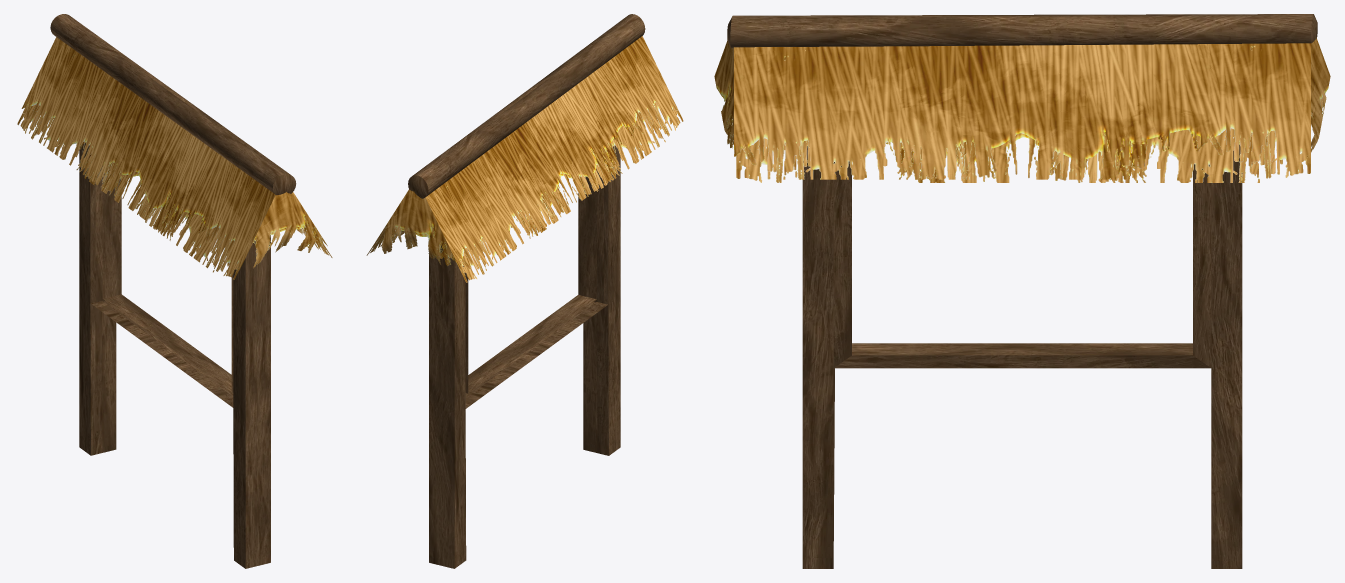
The model's file is pm-informative-panel-01.glb.
3 views of the same model, side by side, from view 1: azimuth 30°, elevation 25°; view 2: azimuth 150°, elevation 25°; view 3: azimuth 270°, elevation 25° (orthographic). The views are drawn at different scales.
Parts seen in each view (by area): view 1: InformativePanel01; view 2: InformativePanel01; view 3: InformativePanel01.
Boxes of the visible parts, left/top/right/bottom form: InformativePanel01: left=17, top=14, right=332, bottom=568; InformativePanel01: left=366, top=14, right=683, bottom=568; InformativePanel01: left=714, top=14, right=1330, bottom=568.
Bounding box in the file's own units: 1.73 × 6.58 × 6.76.
2 materials, 2 textured.
